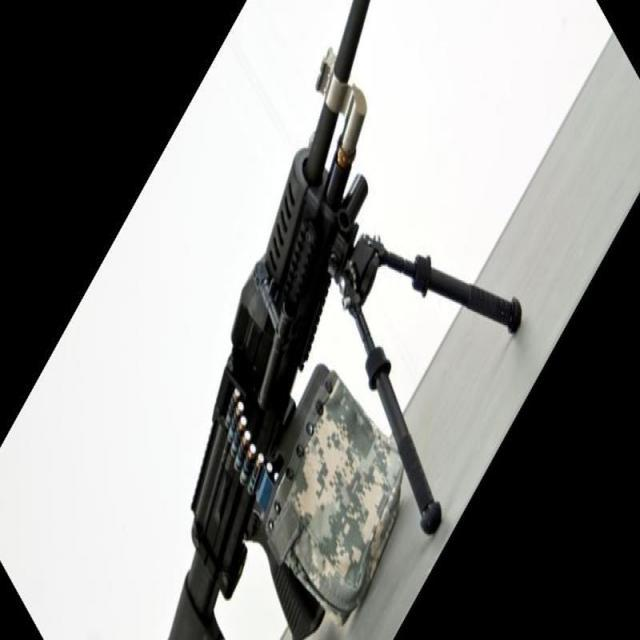weapon: (169, 0, 524, 640)
